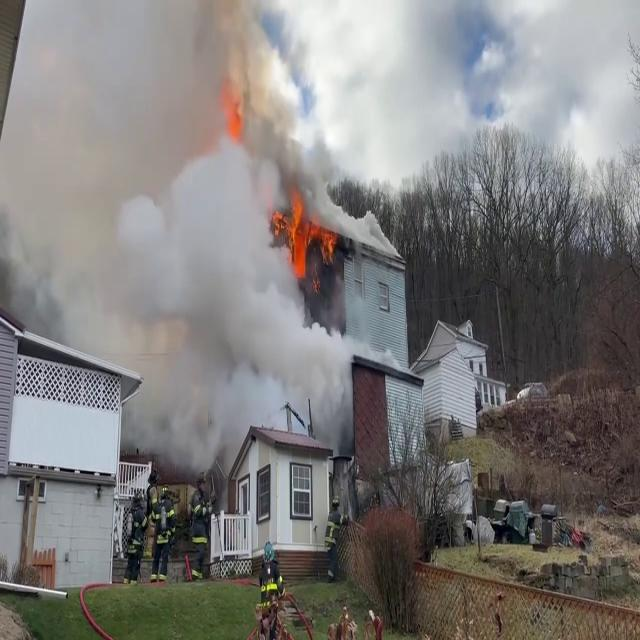Fire: (274, 187, 340, 281)
Smoke: (0, 0, 350, 461)
